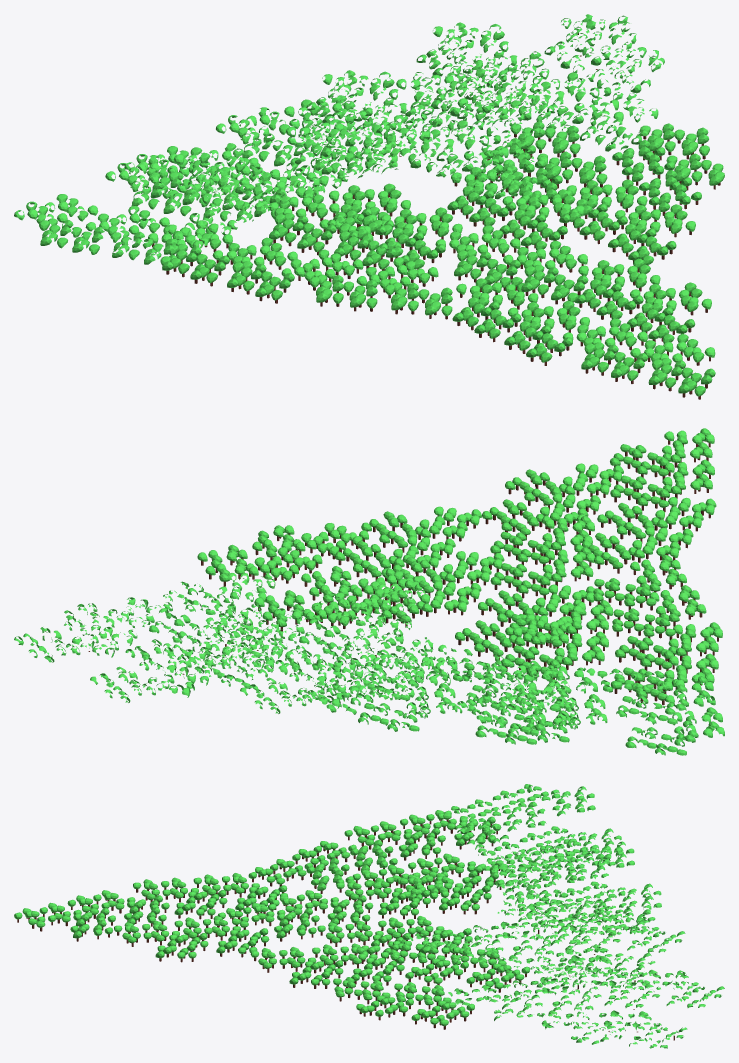
The model's file is trees.fbx.
3 views of the same model, one above another, from view 1: azimuth 30°, elevation 25°; view 2: azimuth 150°, elevation 25°; view 3: azimuth 270°, elevation 25° (orthographic). The views are drawn at different scales.
Parts seen in each view (by area): view 1: Trees; view 2: Trees; view 3: Trees.
Part boxes in pixels (box(x1,y1,x2,y2)): Trees: box(14, 14, 724, 399); Trees: box(14, 428, 724, 755); Trees: box(14, 784, 724, 1048).
Bounding box in the file's own units: 37184 × 1073 × 42661.
